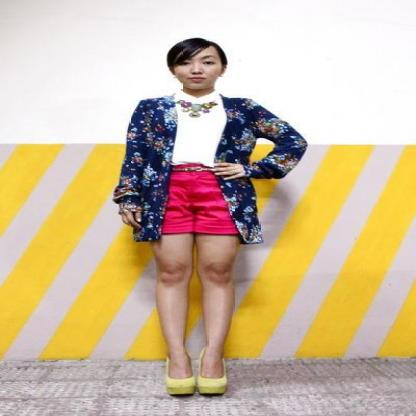jacket: (112, 96, 307, 245)
shirt: (157, 83, 226, 166)
shoe: (155, 370, 226, 401)
shorts: (162, 163, 236, 234)
